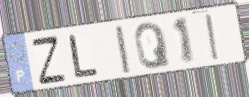1: (172, 15, 195, 67)
I: (113, 24, 132, 75), (203, 12, 222, 62)
L: (67, 33, 100, 80)
Q: (132, 20, 173, 71)
Z: (30, 34, 68, 87)
